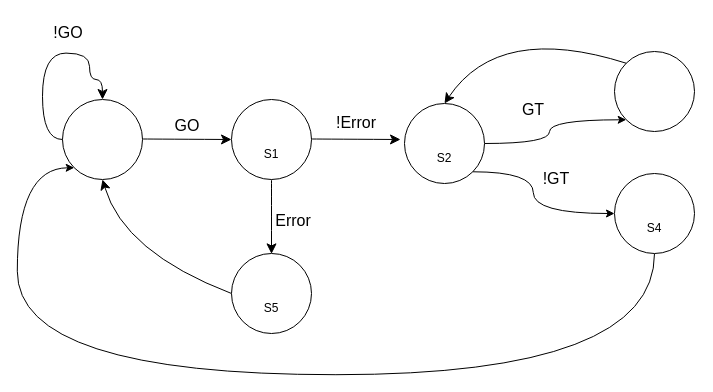
The diagram is 713 pixels wide and 392 high, and some of its shapes have lost their labels. The shapes that lost their labels are listed below. From the top down, each one's box as (x1, y1, x2, y2) in pixels, then its label:
(614, 50, 694, 132): S3
(62, 98, 142, 180): S0
